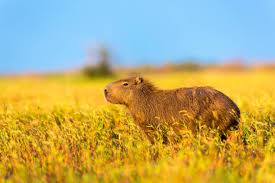capivara: (104, 73, 242, 146)
